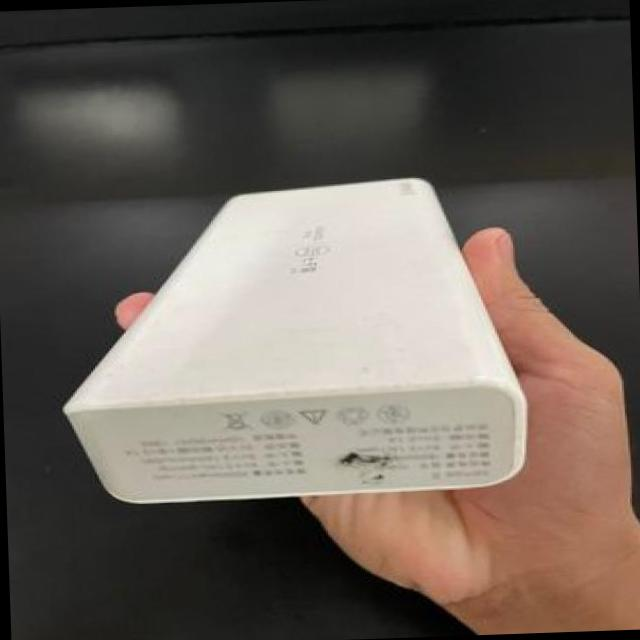power_bank: (50, 155, 538, 516)
